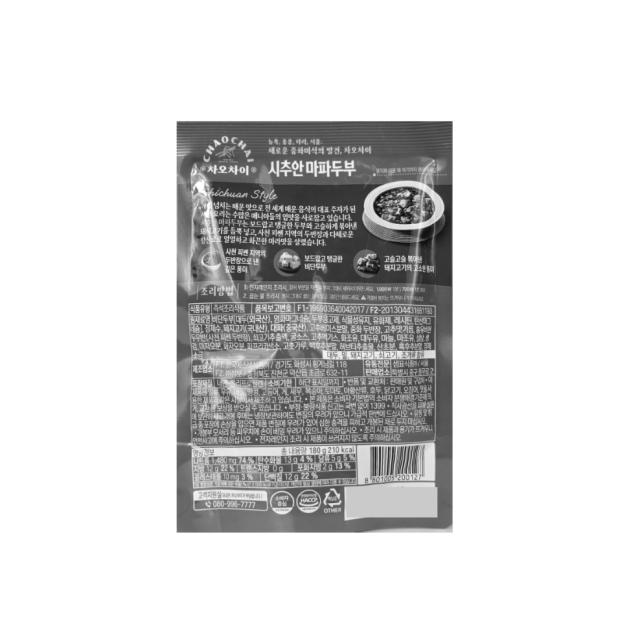Nutrition Label: (182, 445, 360, 488)
